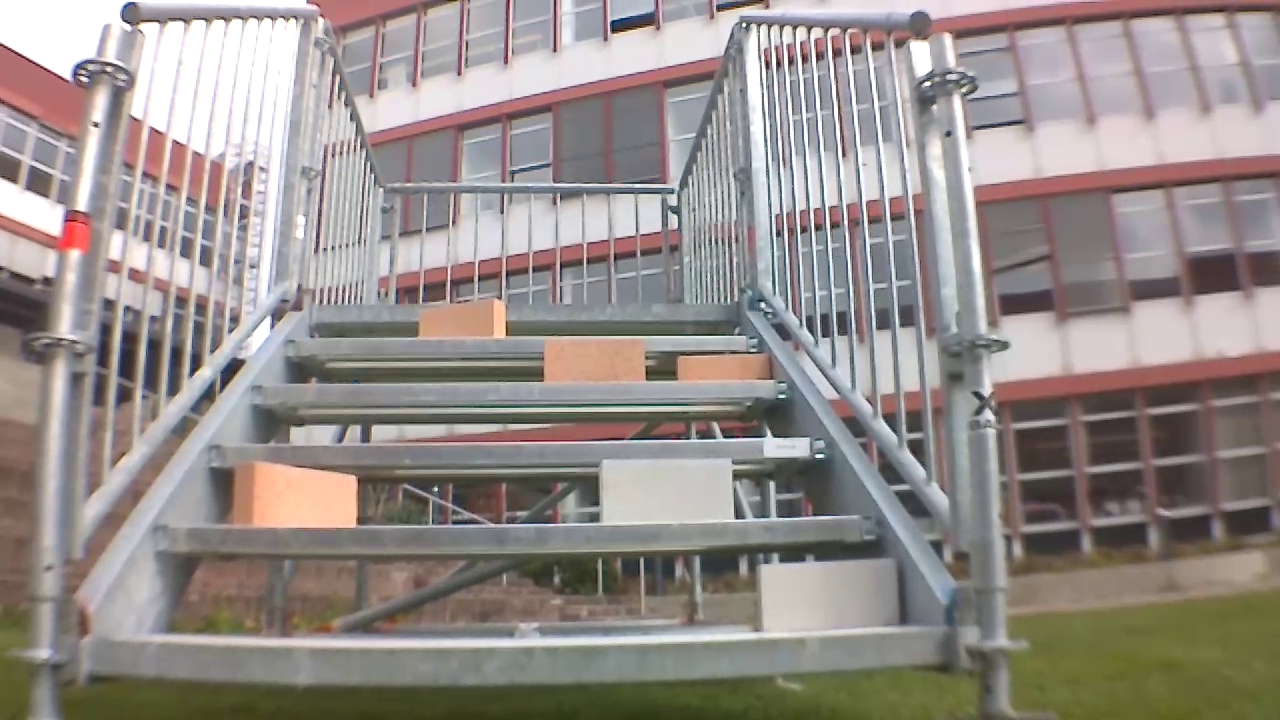brick: (757, 559, 900, 634), (599, 458, 732, 522), (234, 461, 356, 526), (544, 338, 645, 380), (418, 299, 506, 337), (678, 354, 770, 379)
edge: (91, 628, 946, 684), (155, 515, 878, 551), (208, 438, 827, 465), (251, 379, 791, 405), (282, 336, 759, 355), (314, 302, 743, 321)
stairs: (22, 8, 1031, 716)
steps: (87, 296, 957, 689)
